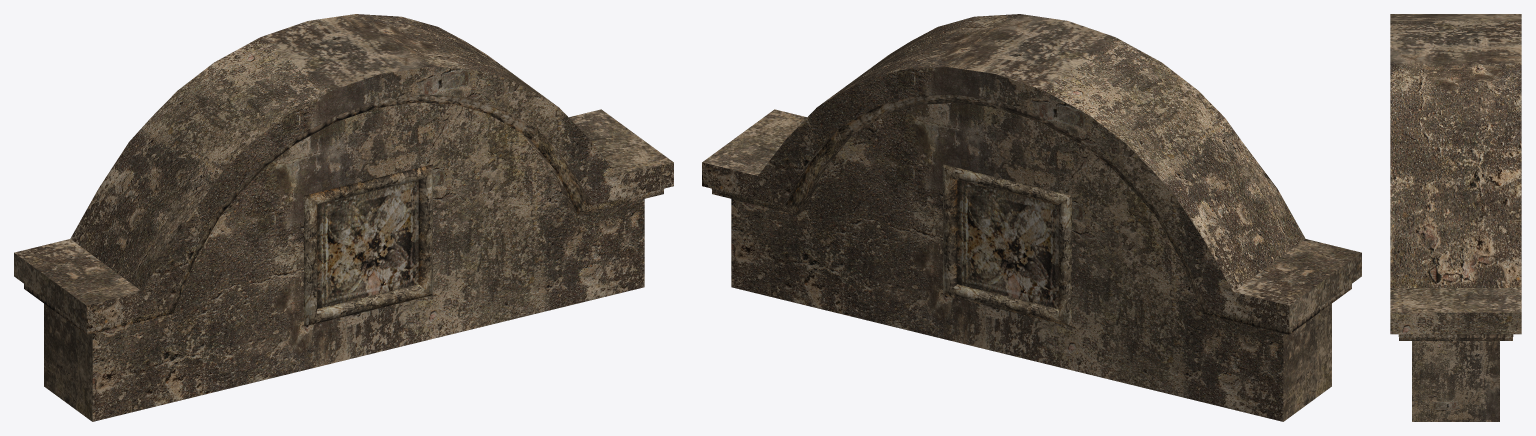
File: materials_5_arch_27.fbx
The picture shows the model from 3 angles, left to right: view 1: azimuth 30°, elevation 25°; view 2: azimuth 150°, elevation 25°; view 3: azimuth 270°, elevation 25°; orthographic projection. The views are drawn at different scales.
Parts seen in each view (by area): view 1: materials_5_arch_27; view 2: materials_5_arch_27; view 3: materials_5_arch_27.
Part boxes in pixels (bbox=[...]): materials_5_arch_27: bbox=[14, 14, 673, 421]; materials_5_arch_27: bbox=[702, 14, 1361, 421]; materials_5_arch_27: bbox=[1390, 14, 1521, 421].
Size of the model in its own units: 394 by 185 by 84.19.
